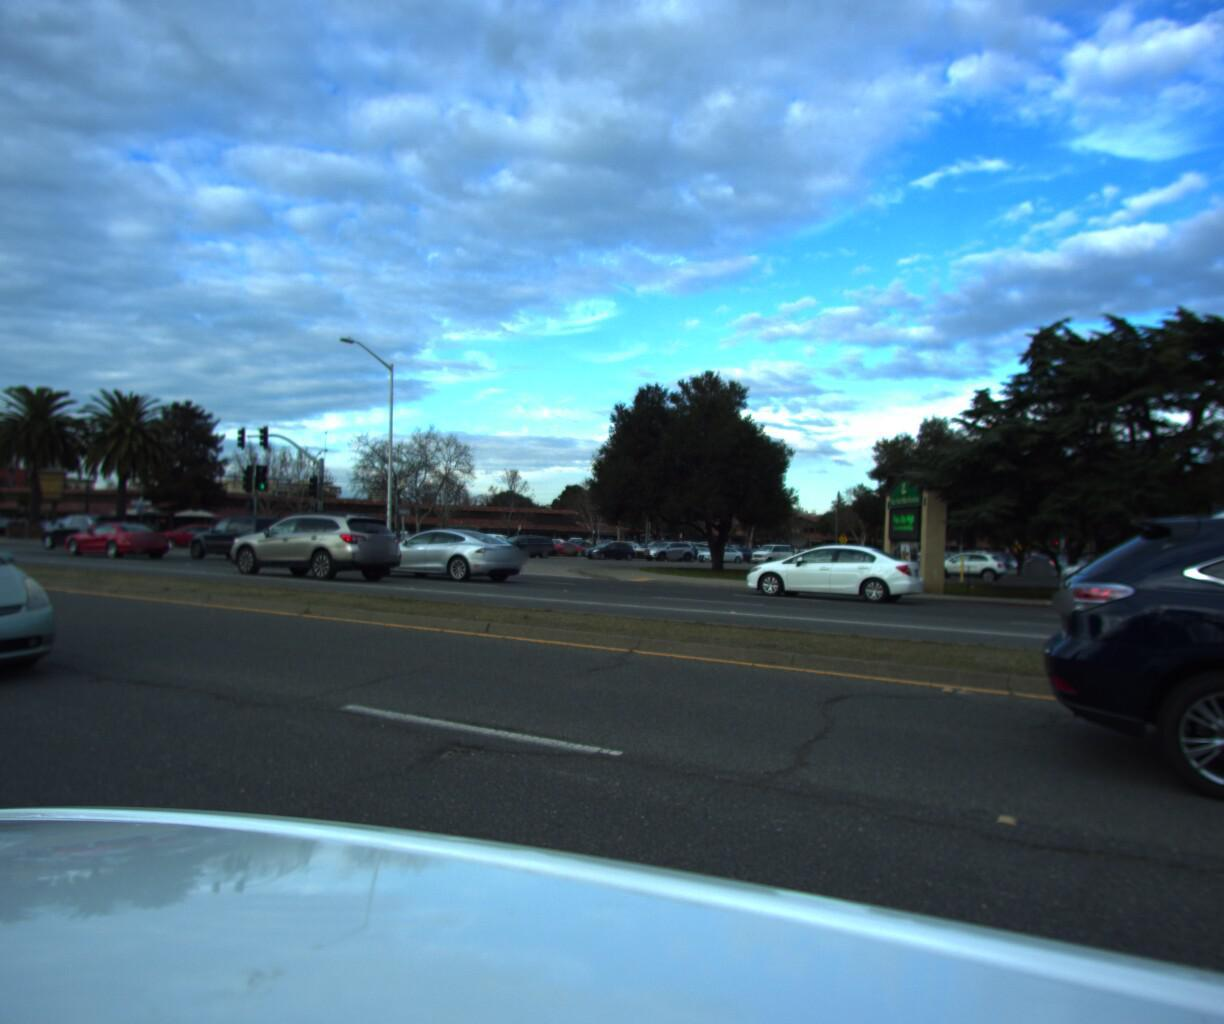car: (982, 472, 1224, 958), (0, 497, 88, 708), (216, 502, 415, 579), (744, 537, 937, 601), (359, 523, 533, 582), (175, 507, 291, 557), (53, 515, 175, 557), (30, 505, 132, 546), (136, 515, 237, 543), (483, 531, 558, 553), (469, 525, 527, 548), (576, 534, 639, 555), (637, 533, 697, 555), (745, 536, 800, 557), (688, 539, 745, 558), (544, 534, 594, 554)
